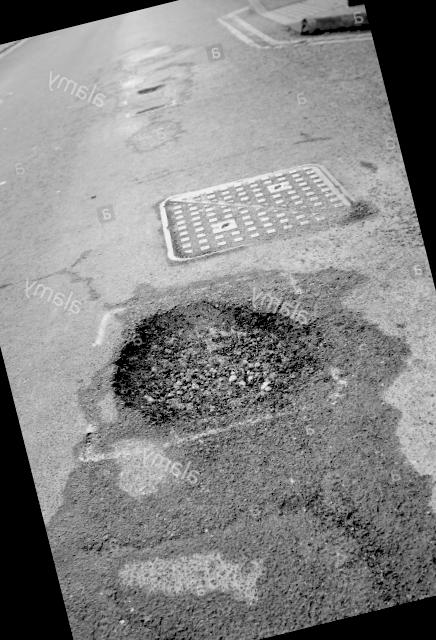Pothole: (54, 263, 354, 472)
